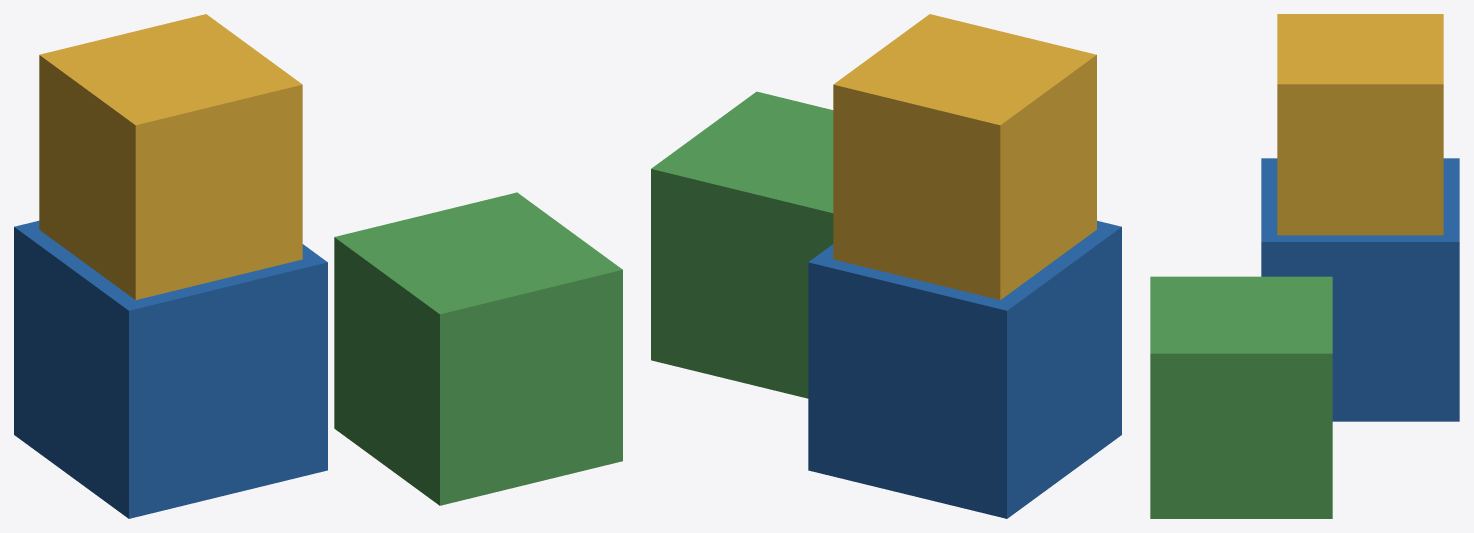
Rendered from MedicineBalls.fbx.
The picture shows the model from 3 angles, left to right: view 1: azimuth 30°, elevation 25°; view 2: azimuth 150°, elevation 25°; view 3: azimuth 270°, elevation 25°; orthographic projection. The views are drawn at different scales.
Parts seen in each view (by area): view 1: MedicineBalls_Mesh; view 2: MedicineBalls_Mesh; view 3: MedicineBalls_Mesh.
Boxes of the visible parts, left/top/right/bottom form: MedicineBalls_Mesh: left=14, top=14, right=622, bottom=518; MedicineBalls_Mesh: left=651, top=14, right=1121, bottom=518; MedicineBalls_Mesh: left=1150, top=14, right=1459, bottom=518.
Bounding box in the file's own units: 1.08 × 0.92 × 0.78.
1 material, 1 textured.
